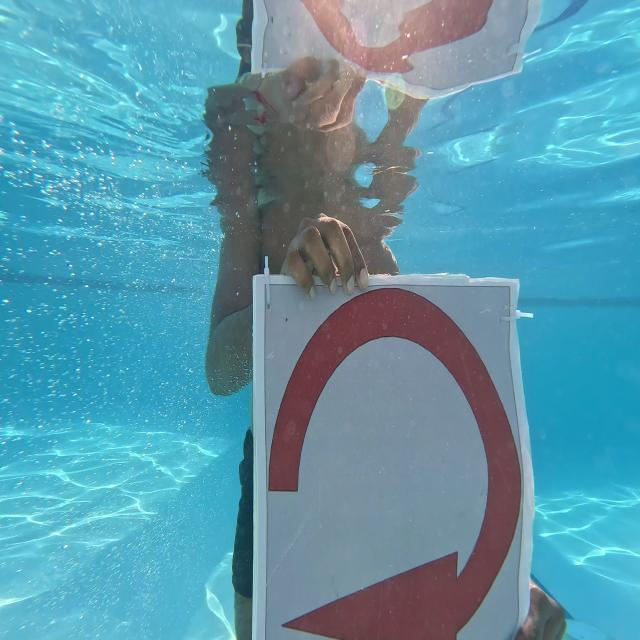red_side: (251, 271, 529, 640)
